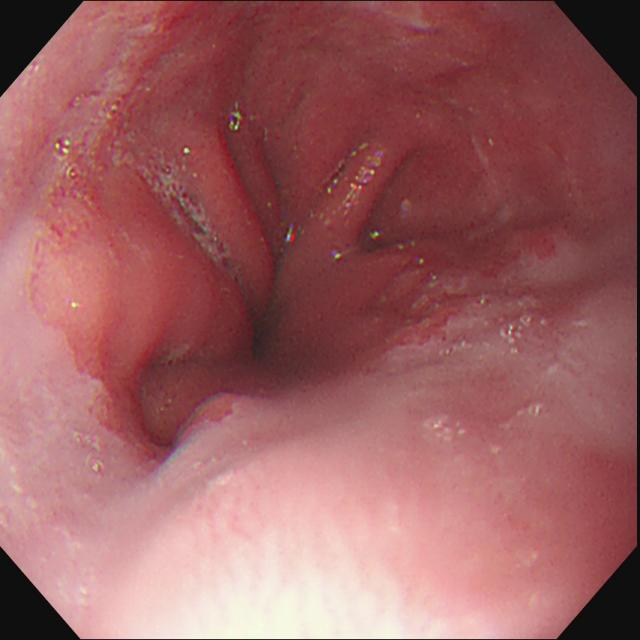I: (66, 58, 503, 470)
T: (141, 157, 233, 267), (52, 136, 81, 183)
U: (343, 150, 384, 211)
